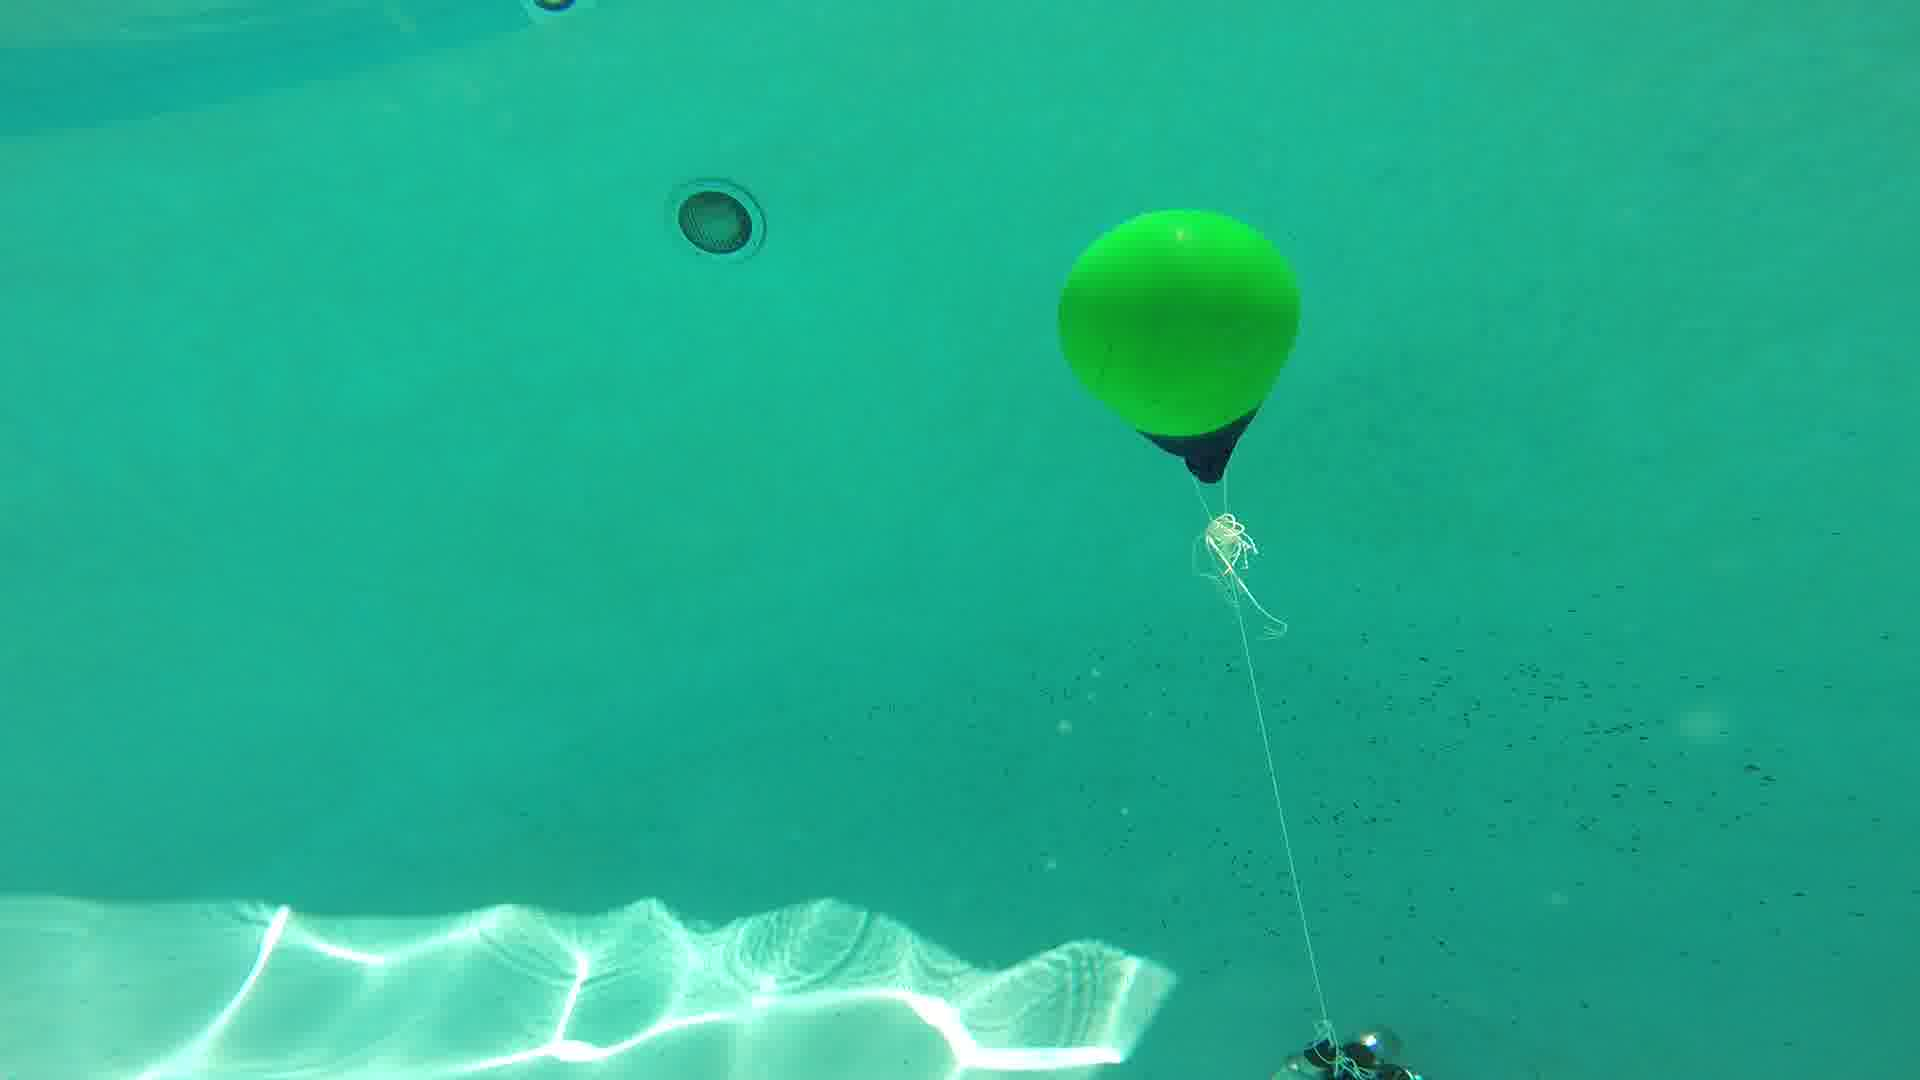yellow_buoy: (1056, 207, 1300, 487)
